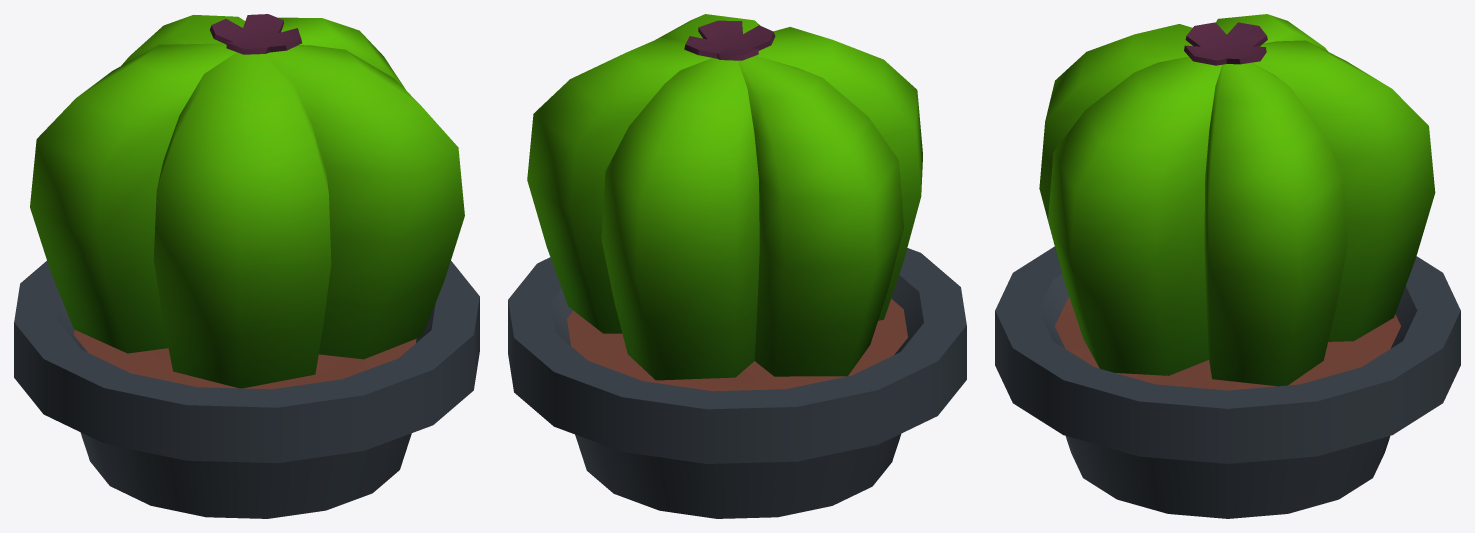
The model's file is SM_Props_Plant_04.fbx.
3 renders of one model, left to right at view 1: azimuth 30°, elevation 25°; view 2: azimuth 150°, elevation 25°; view 3: azimuth 270°, elevation 25°, orthographic.
Visible parts, largest first — view 1: SM_Props_Plant_04; view 2: SM_Props_Plant_04; view 3: SM_Props_Plant_04.
Part boxes in pixels (x1,y1,x2,y2): SM_Props_Plant_04: (14, 14, 479, 518); SM_Props_Plant_04: (508, 14, 966, 518); SM_Props_Plant_04: (995, 14, 1460, 518).
Size of the model in its own units: 0.315 by 0.3116 by 0.315.
